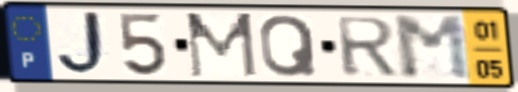5: (115, 11, 169, 77)
J: (55, 9, 114, 79)
M: (389, 14, 476, 82), (183, 11, 261, 81)
Q: (257, 13, 320, 80)
R: (333, 15, 401, 79)
